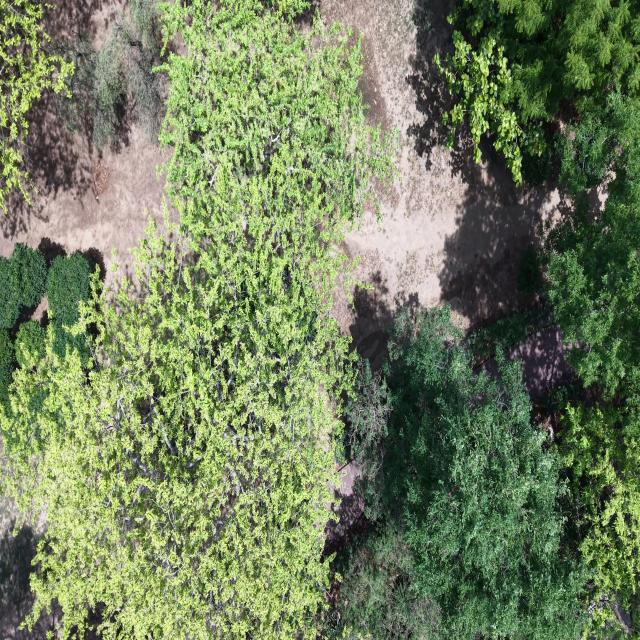DRY_AREA: (319, 0, 562, 365), (320, 0, 562, 363), (0, 97, 164, 278), (0, 96, 164, 277), (0, 122, 163, 279), (0, 495, 60, 639), (505, 325, 574, 400), (326, 460, 364, 552)
VEGETATION_TREE: (0, 0, 639, 639), (0, 0, 394, 638), (0, 236, 349, 637), (437, 0, 639, 634), (442, 2, 639, 633), (355, 216, 639, 637), (325, 309, 639, 638), (161, 0, 392, 297), (382, 308, 585, 638), (385, 308, 583, 639), (333, 327, 517, 637), (539, 78, 639, 635), (546, 92, 639, 633), (435, 0, 639, 183), (0, 0, 164, 213), (547, 94, 639, 396), (450, 0, 639, 120), (561, 404, 639, 635), (549, 201, 639, 397), (434, 31, 546, 185), (55, 0, 165, 149), (0, 0, 73, 213), (0, 243, 89, 407), (323, 519, 440, 639), (466, 244, 553, 367), (557, 92, 639, 197), (345, 358, 391, 521), (0, 243, 46, 406), (467, 300, 553, 366), (47, 253, 90, 357), (0, 243, 46, 329), (0, 527, 39, 624), (47, 253, 90, 325), (10, 243, 47, 307), (521, 123, 557, 187), (129, 0, 163, 54), (15, 321, 46, 368), (0, 257, 20, 329), (517, 244, 543, 299), (50, 319, 87, 357), (0, 329, 14, 405)
